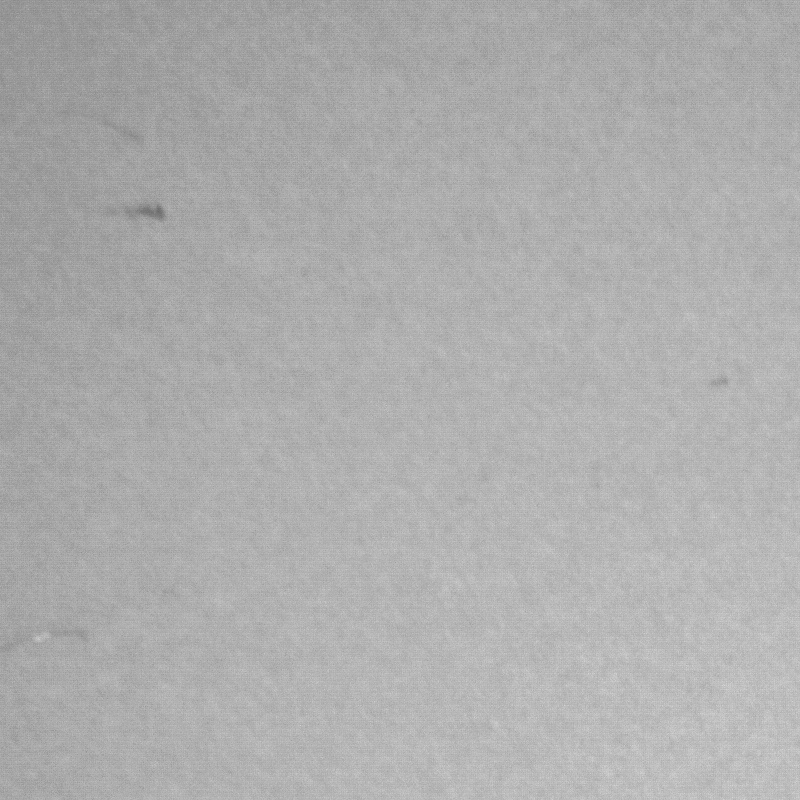defect: (69, 110, 151, 147), (6, 623, 101, 647), (96, 201, 173, 221), (709, 375, 733, 392)
